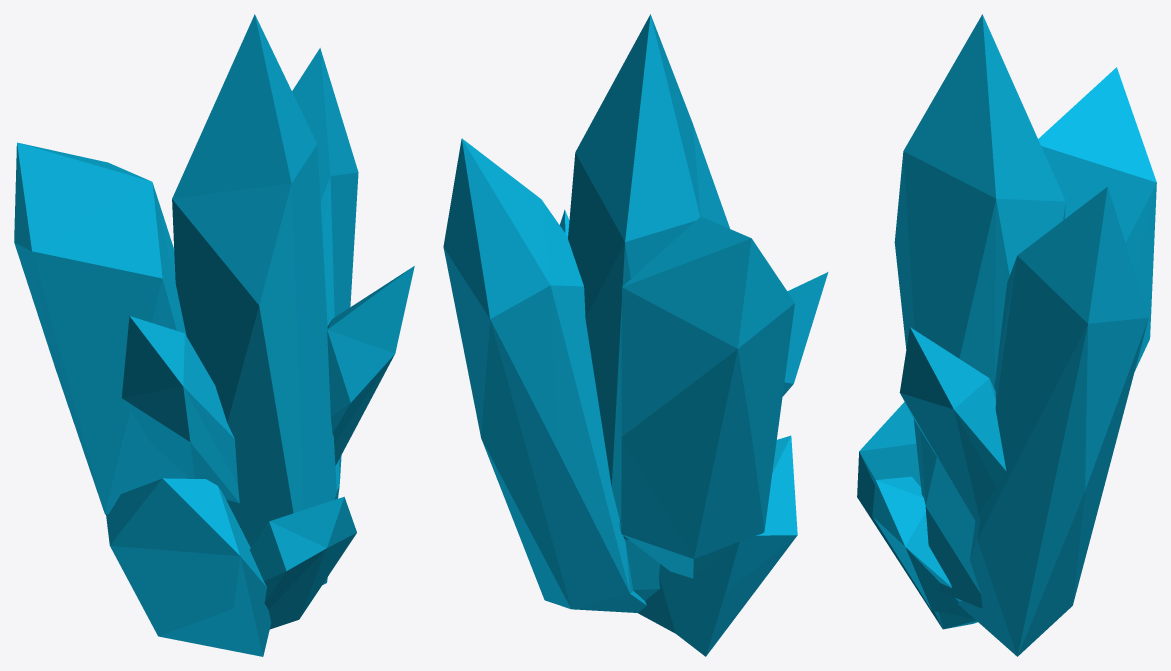
File: cristal_azul.fbx
3 renders of one model, left to right at view 1: azimuth 30°, elevation 25°; view 2: azimuth 150°, elevation 25°; view 3: azimuth 270°, elevation 25°, orthographic.
Parts seen in each view (by area): view 1: cristal.001; view 2: cristal.001; view 3: cristal.001.
Part boxes in pixels (bbox=[...]): cristal.001: bbox=[14, 14, 414, 656]; cristal.001: bbox=[443, 14, 828, 656]; cristal.001: bbox=[857, 14, 1156, 656].
Size of the model in its own units: 504 by 882 by 386.
